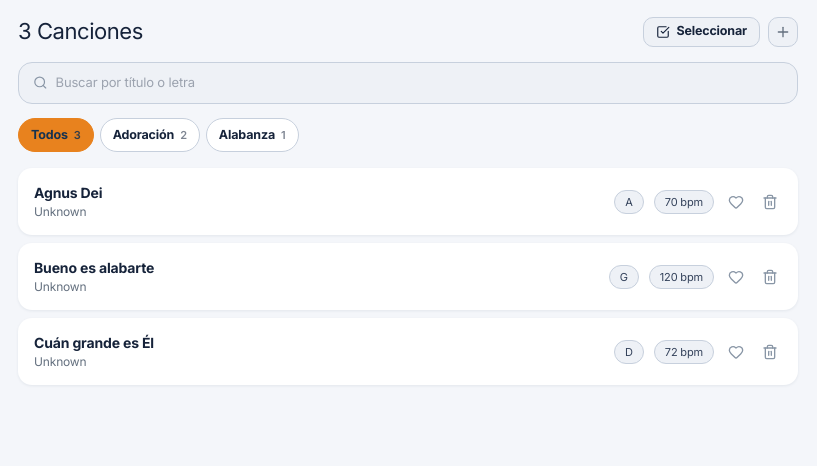
Test case: Borrar varias canciones › marca dos canciones y las borra juntas; tocar una canción no la abre mientras se selecciona
Click the button "Seleccionar". click: click(702, 32)
box: [643, 16, 760, 46]
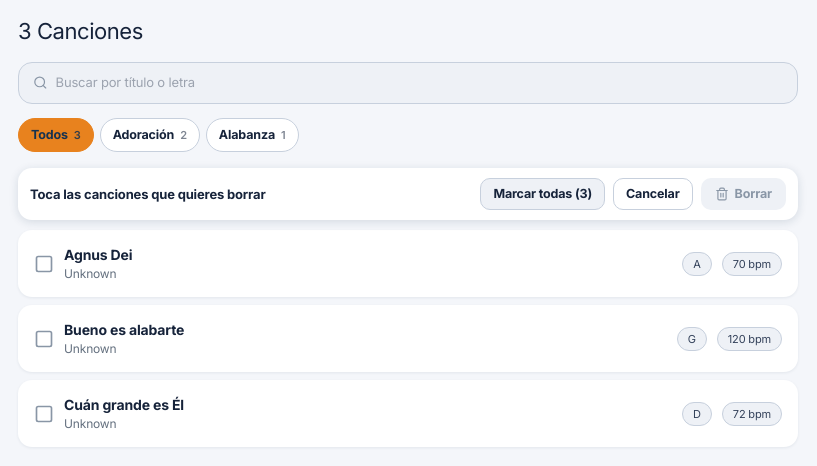
Click the text "Agnus Dei". click: click(98, 255)
box: [64, 246, 132, 263]
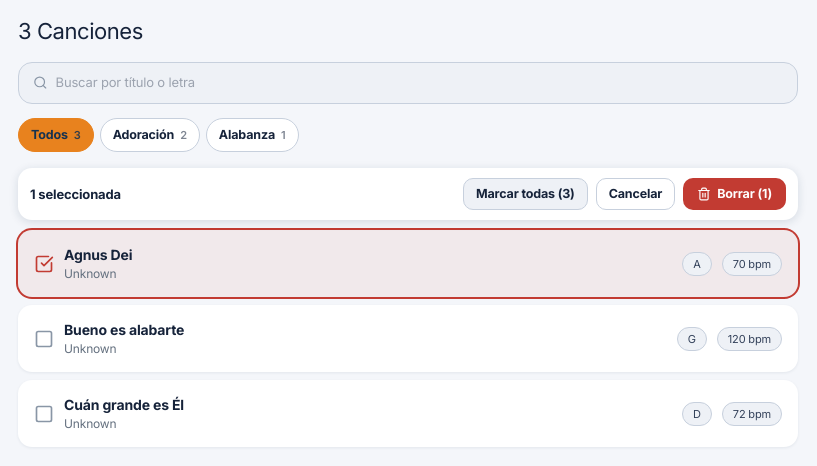
Click the text "Cuán grande es Él". click: click(124, 405)
box: [64, 396, 184, 413]
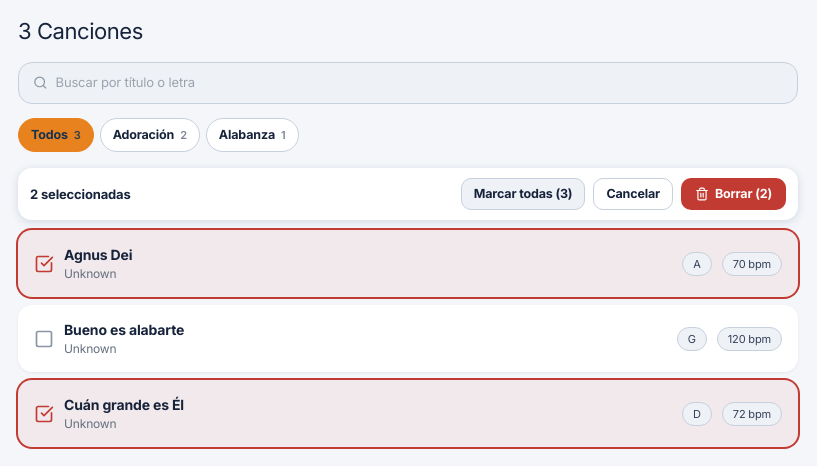
expect the text "2 seleccionadas" is shown: met, box [30, 186, 131, 202]
Click the button "Borrar (2)". click: click(734, 194)
box: [681, 178, 786, 210]
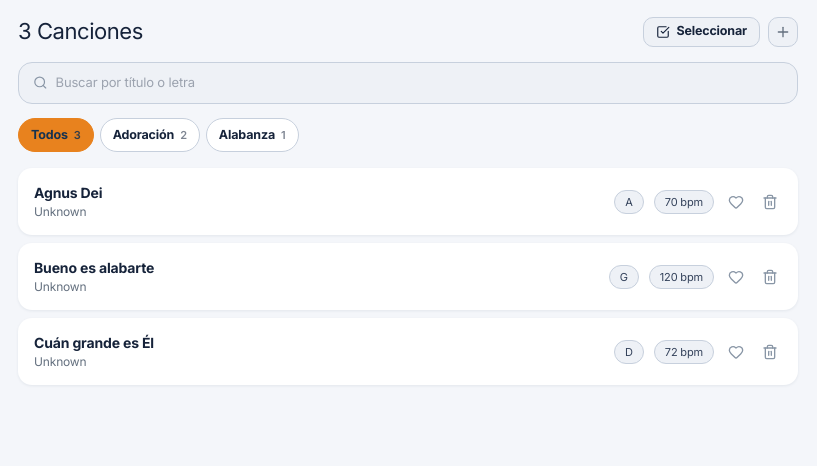
expect the element with test id "barra-seleccion" is gone: met
